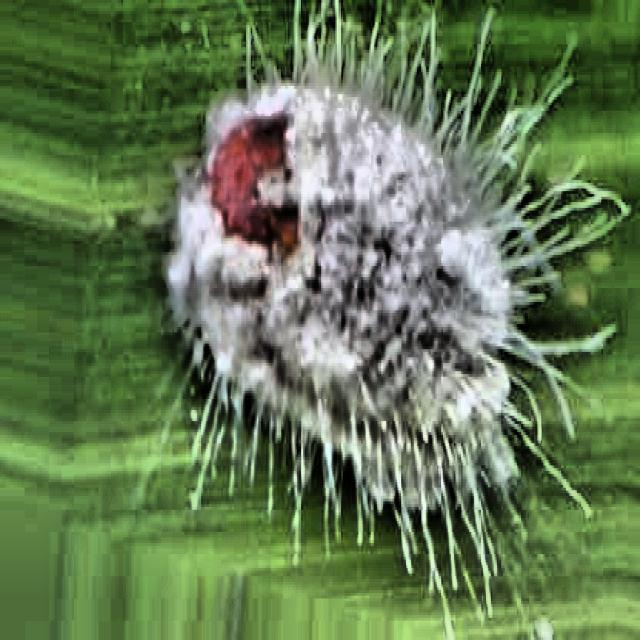Mealy-bug: (129, 1, 596, 589)
